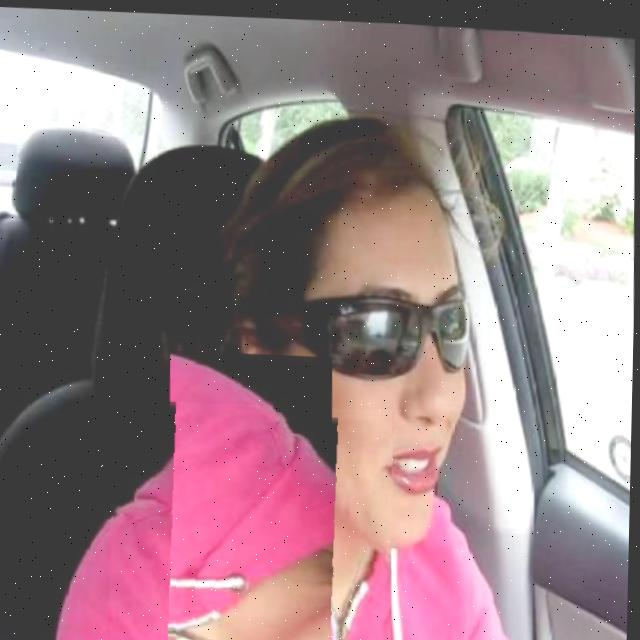no-seatbelt: (107, 390, 396, 640)
